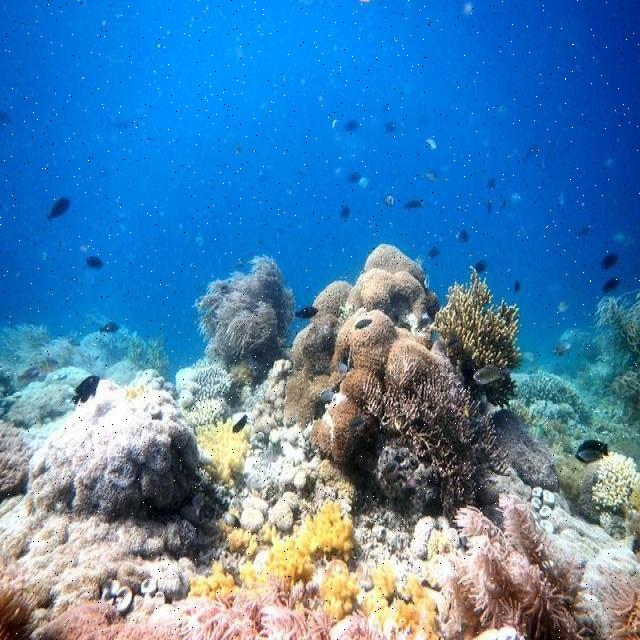reefs: (245, 241, 523, 506), (24, 378, 203, 521), (428, 505, 591, 639), (192, 249, 301, 363)
